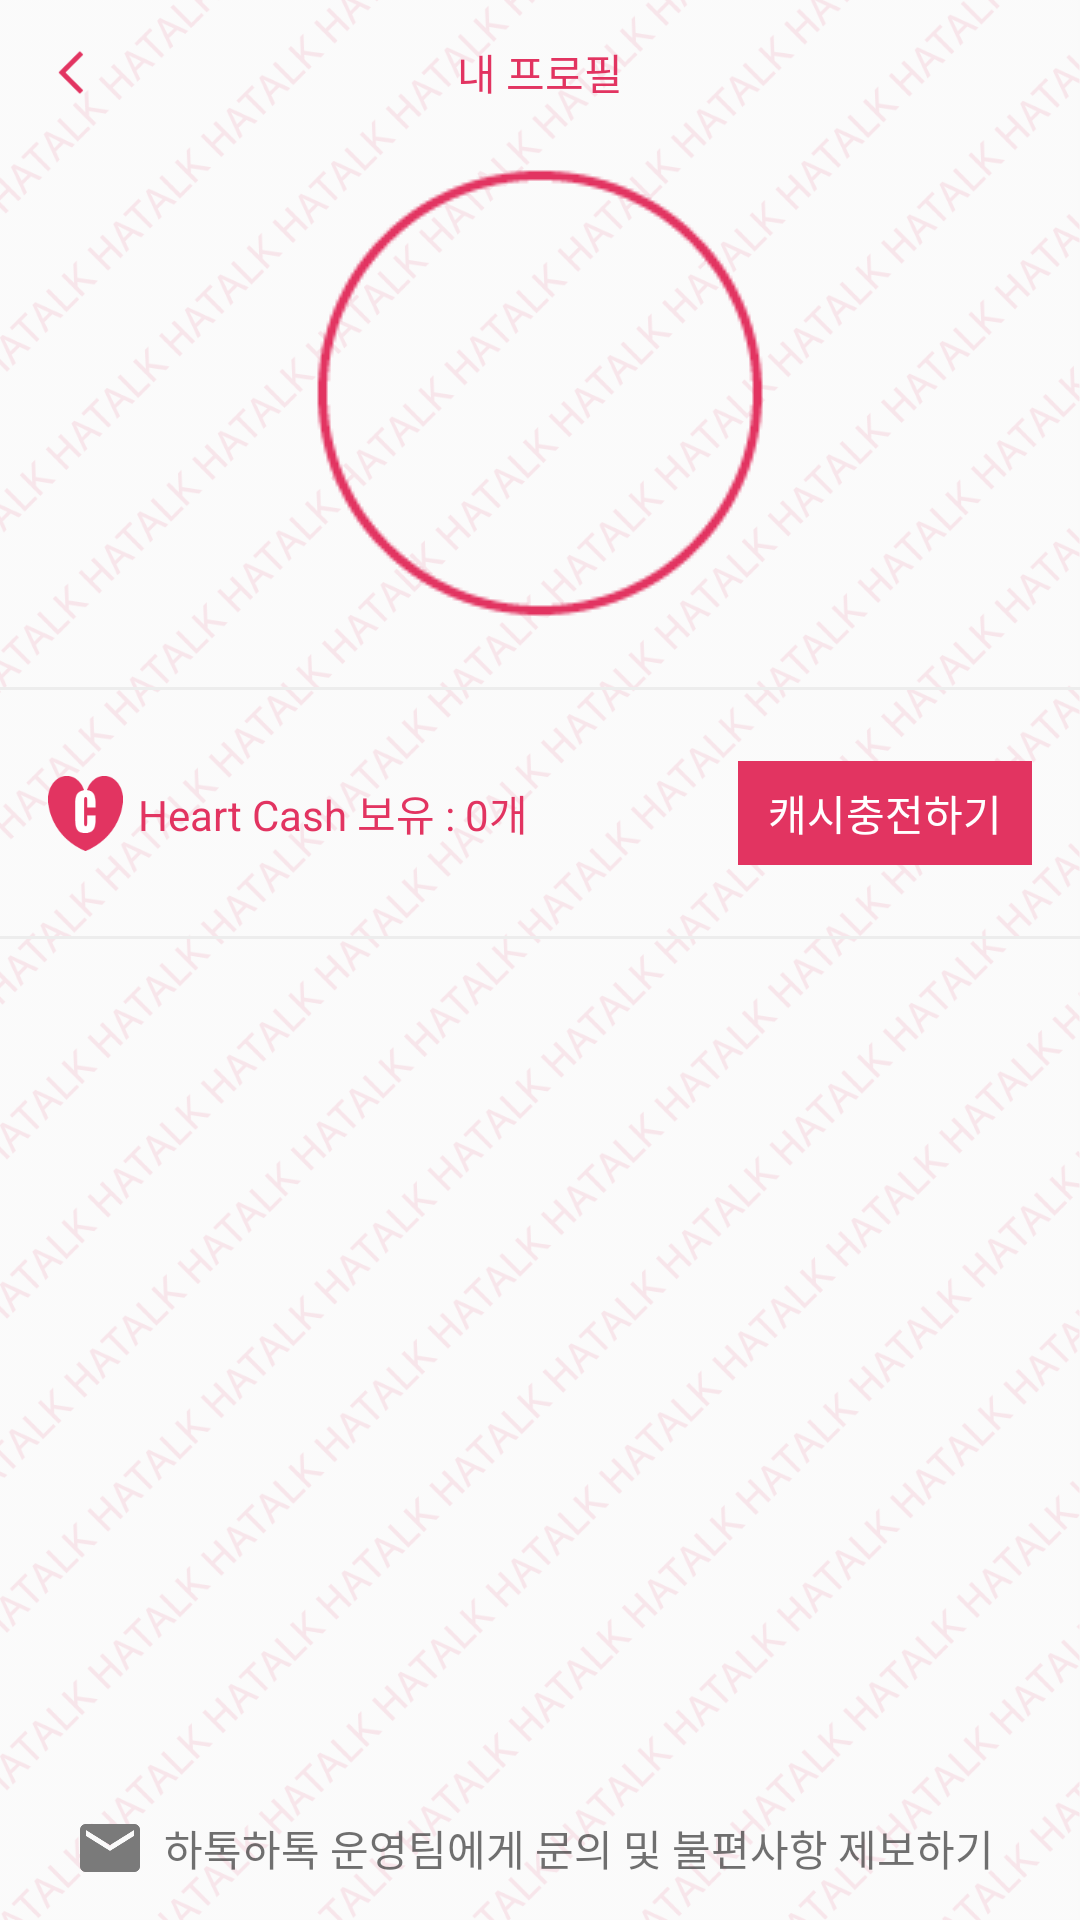

Where to tap for icons on this 1080*1920 app screen, as (x=x, y=y):
global back: (x=70, y=72)
global cash: (x=85, y=813)
profile mail: (x=110, y=1848)
